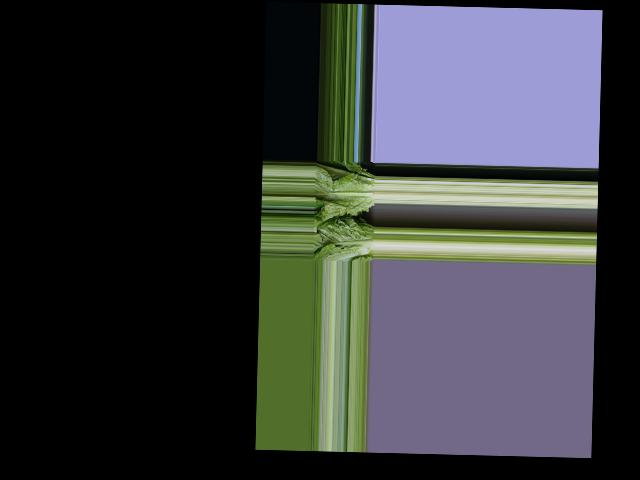lettuce: (316, 218, 375, 259)
